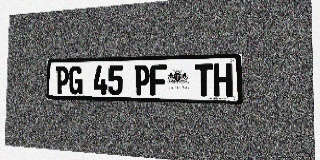4: (93, 65, 108, 95)
5: (108, 65, 123, 95)
F: (150, 64, 167, 96)
G: (69, 66, 83, 94)
H: (213, 63, 232, 97)
P: (134, 65, 150, 95), (55, 66, 69, 94)
T: (195, 64, 213, 96)
